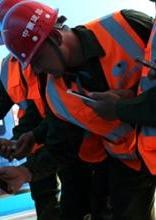gloves: (0, 101, 14, 125)
hard-hat: (1, 0, 59, 68)
vest: (0, 54, 44, 135)
